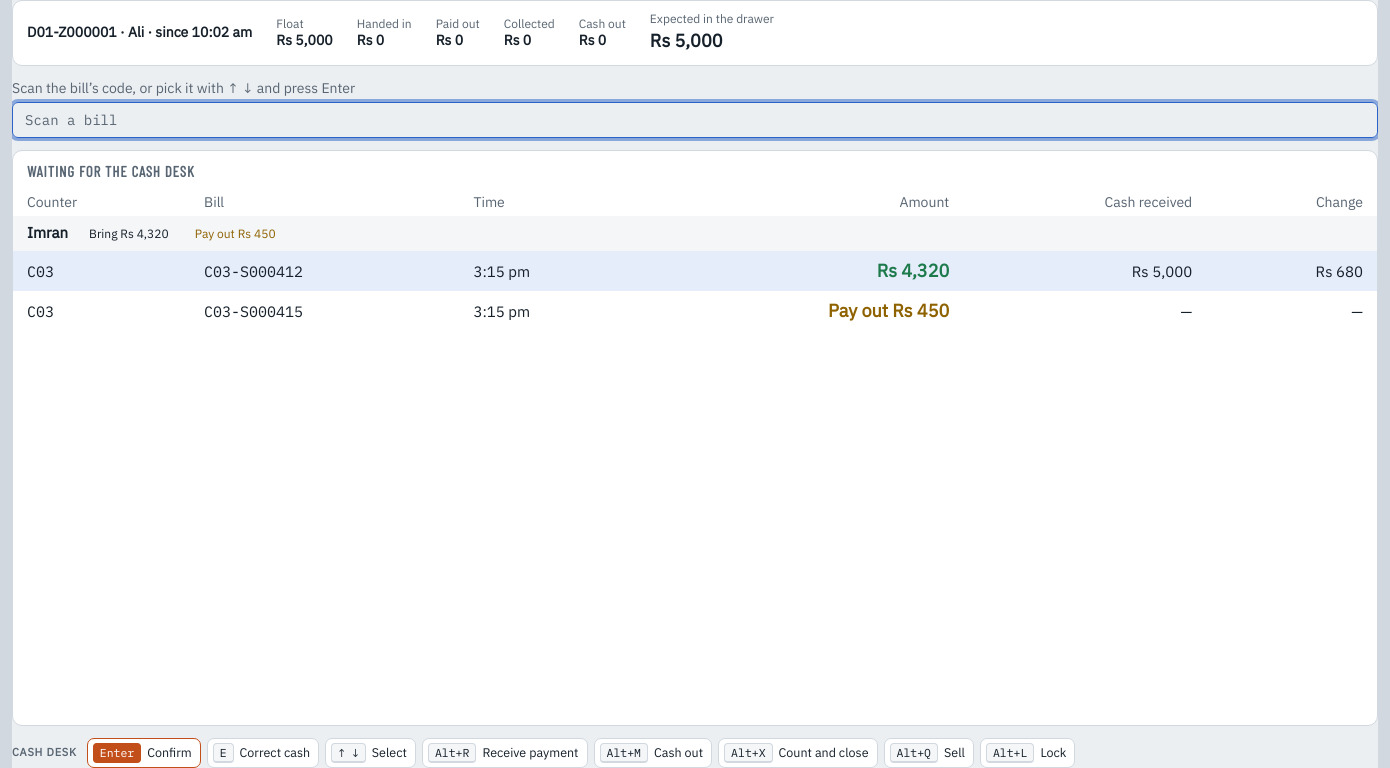
Test: the cash desk screen › refuses something that is not a bill code
Expected: the text "C03-S000412" is shown, [196,251,465,291]
Type "ABEA001" into the field named "Scan a bill".
click(695, 120); type("ABEA001")  # box [12,102,1378,138]
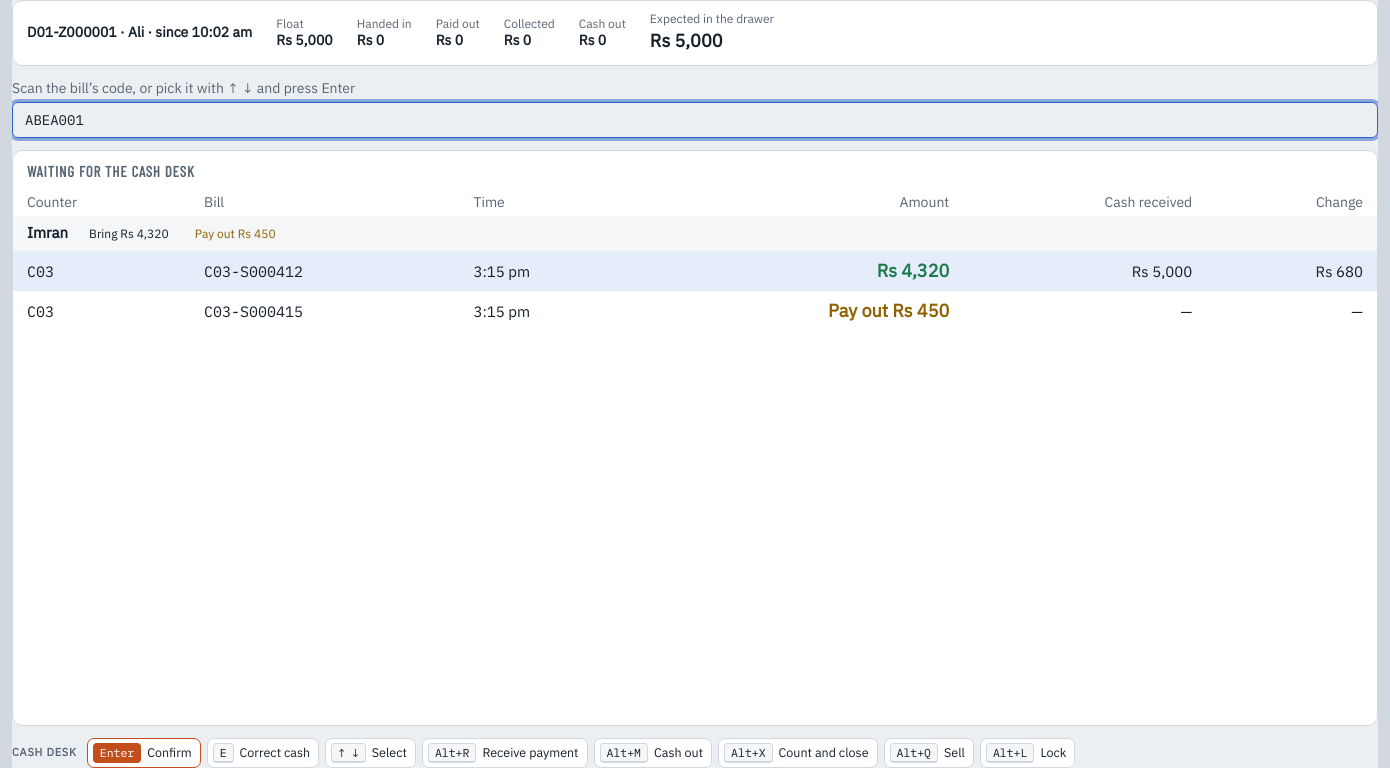
Press Enter in the field named "Scan a bill", box [12,102,1378,138]
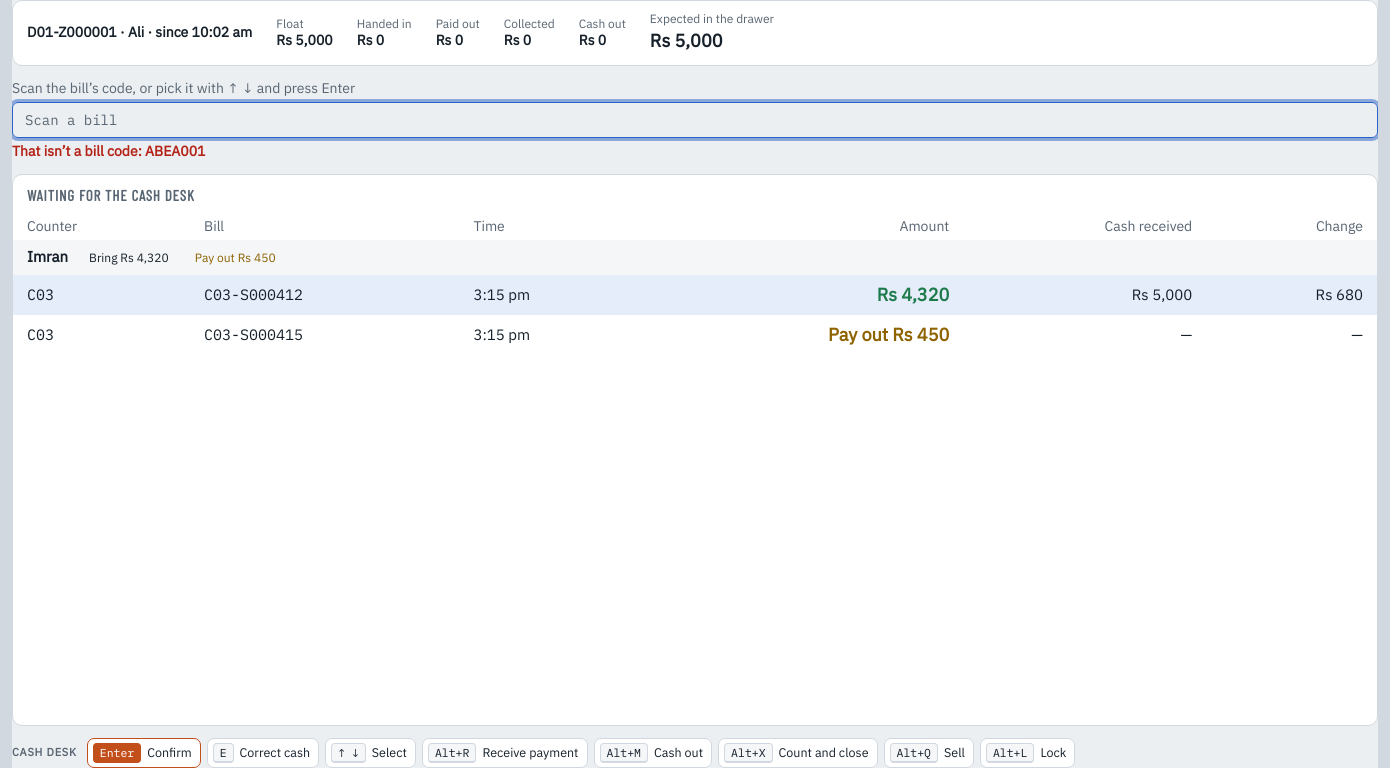
Expected: the text "That isn’t a bill code: ABEA001" is shown, [12,142,206,160]
